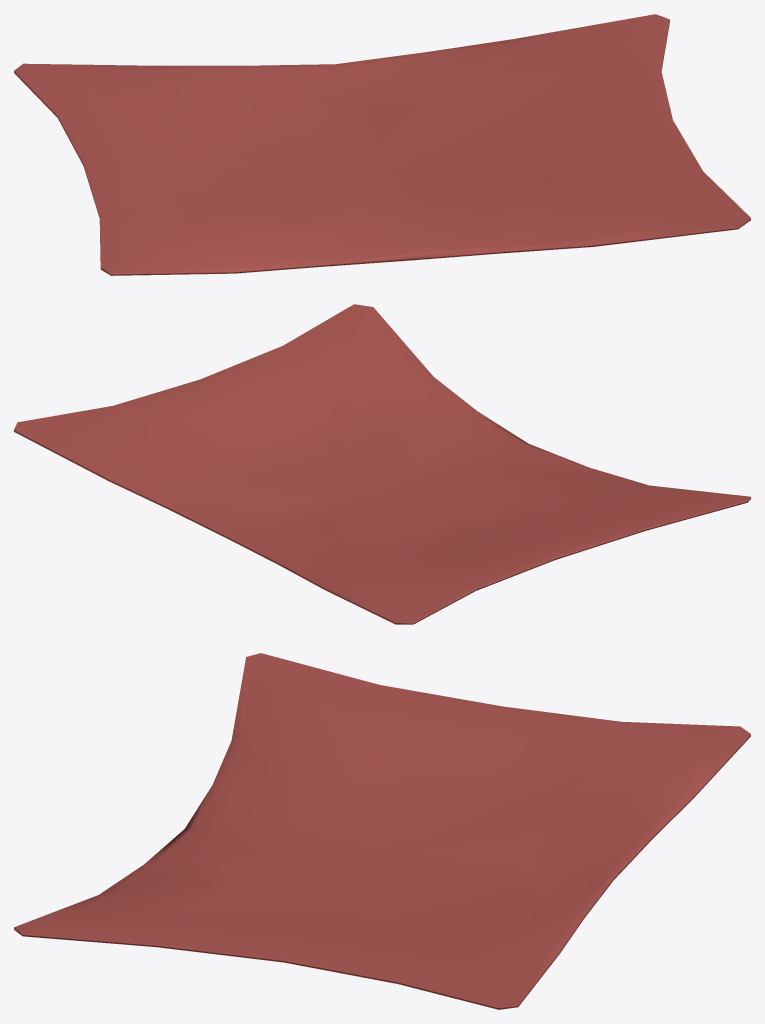
Rendered from Enviro_MarketTop_Orange_Creole_Untextured.fbx.
The picture shows the model from 3 angles, top to bottom: view 1: azimuth 30°, elevation 25°; view 2: azimuth 150°, elevation 25°; view 3: azimuth 270°, elevation 25°; orthographic projection. The views are drawn at different scales.
Visible parts, largest first — view 1: Cloth_Orange; view 2: Cloth_Orange; view 3: Cloth_Orange.
Boxes of the visible parts, bbox=[...] form: Cloth_Orange: bbox=[14, 14, 750, 275]; Cloth_Orange: bbox=[14, 304, 750, 624]; Cloth_Orange: bbox=[14, 653, 750, 1009].
Size of the model in its own units: 5.96 by 0.2883 by 5.24.
